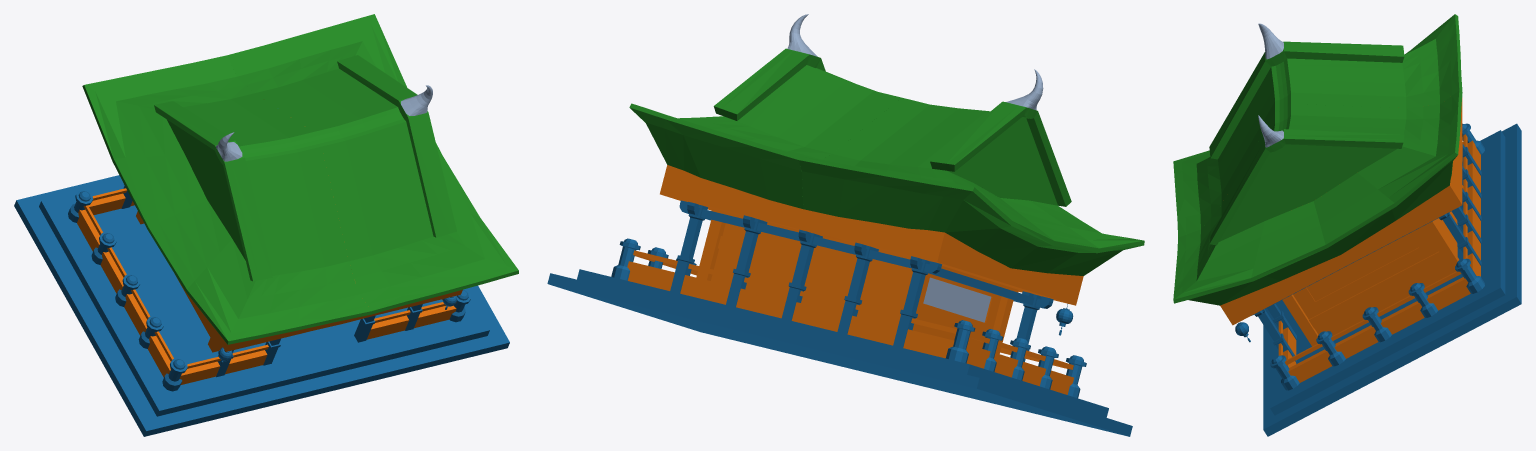
File: temple_k4.glb
3 views of the same model, side by side, from view 1: azimuth 30°, elevation 25°; view 2: azimuth 150°, elevation 25°; view 3: azimuth 270°, elevation 25° (orthographic). The views are drawn at different scales.
Parts seen in each view (by area): view 1: world; view 2: world; view 3: world.
Part boxes in pixels (x1,y1,x2,y2): world: (14,14,518,436); world: (547,14,1144,436); world: (1173,14,1521,436).
Bounding box in the file's own units: 1.52 × 1.15 × 1.29.
